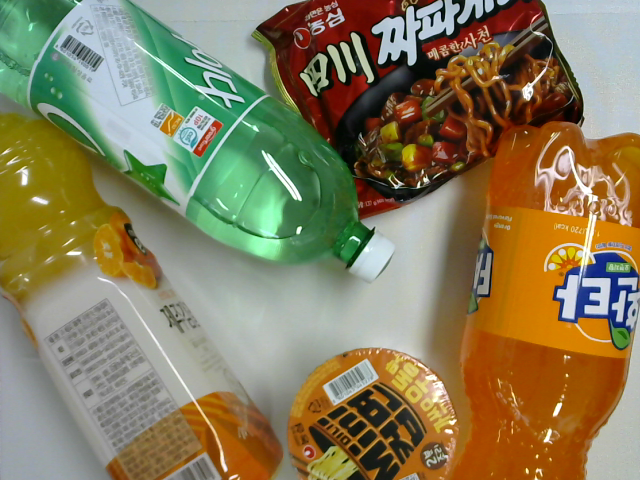Chilseong_Cider_1.5L: (1, 1, 396, 284)
Hwanta_Orange_1.5L: (447, 122, 639, 480)
Jeju_Tangerine_1.5L: (2, 109, 283, 480)
Sichuan_Chapaghetti: (251, 1, 585, 220)
Udongmini: (288, 348, 457, 480)
